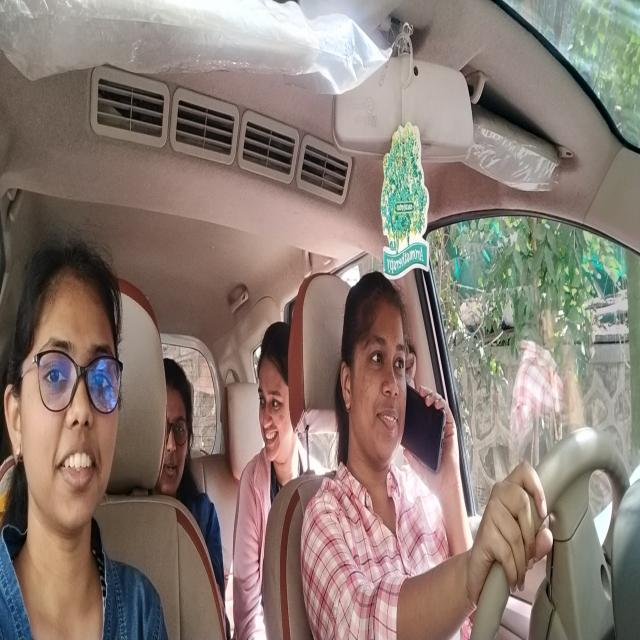mobile: (406, 378, 447, 490)
person: (6, 220, 126, 571), (338, 263, 409, 500), (247, 313, 293, 502), (162, 338, 203, 528)
